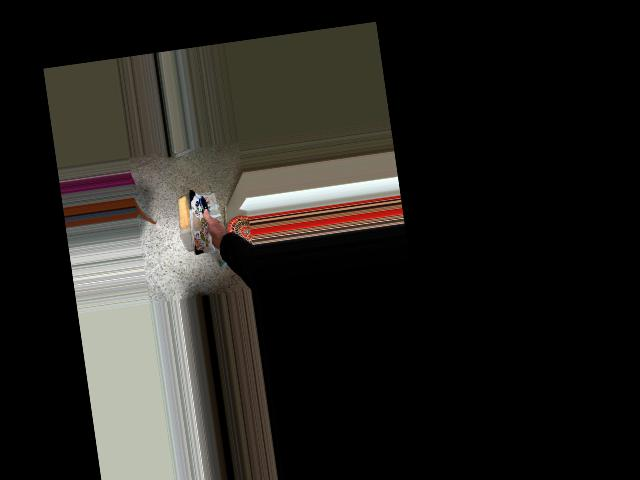cheese: (157, 183, 231, 266)
